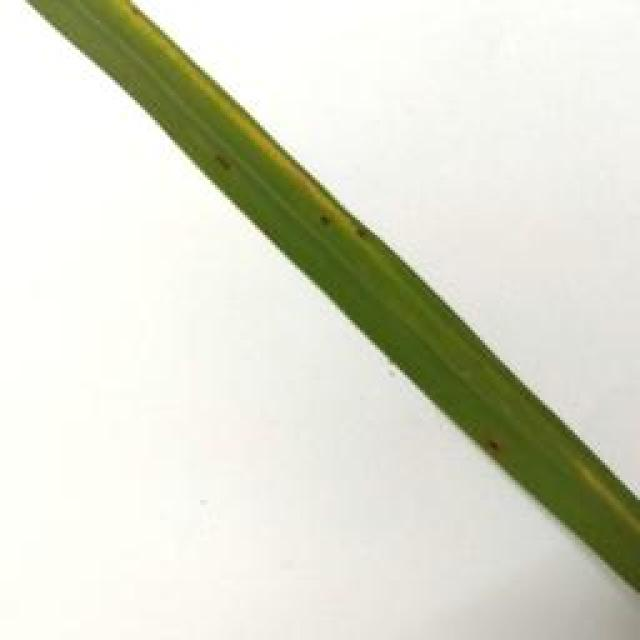Brown_Spot: (324, 203, 395, 260), (196, 129, 242, 182), (308, 203, 349, 254), (465, 429, 507, 462)
